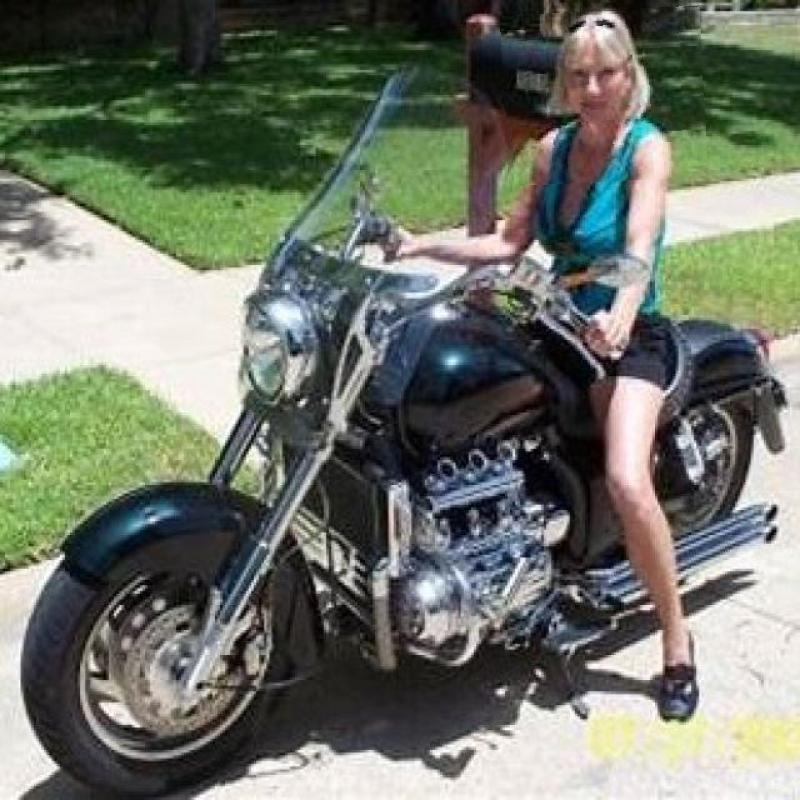nohelmet: (502, 7, 706, 184)
